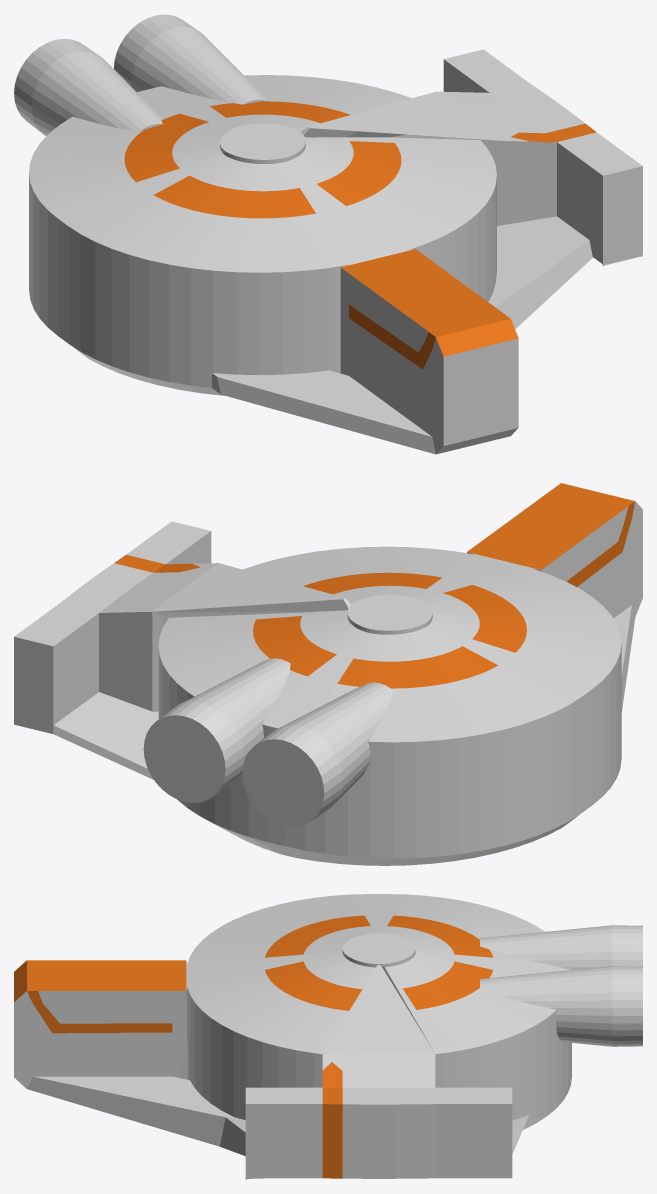
Rendered from ShipModel.fbx.
3 renders of one model, top to bottom at view 1: azimuth 30°, elevation 25°; view 2: azimuth 150°, elevation 25°; view 3: azimuth 270°, elevation 25°, orthographic. The views are drawn at different scales.
Parts seen in each view (by area): view 1: Cube; view 2: Cube; view 3: Cube.
Part boxes in pixels (x1=…): Cube: x1=14, y1=14, x2=642, y2=454; Cube: x1=14, y1=483, x2=642, y2=865; Cube: x1=14, y1=894, x2=642, y2=1179.
Size of the model in its own units: 251 by 83.07 by 326.
